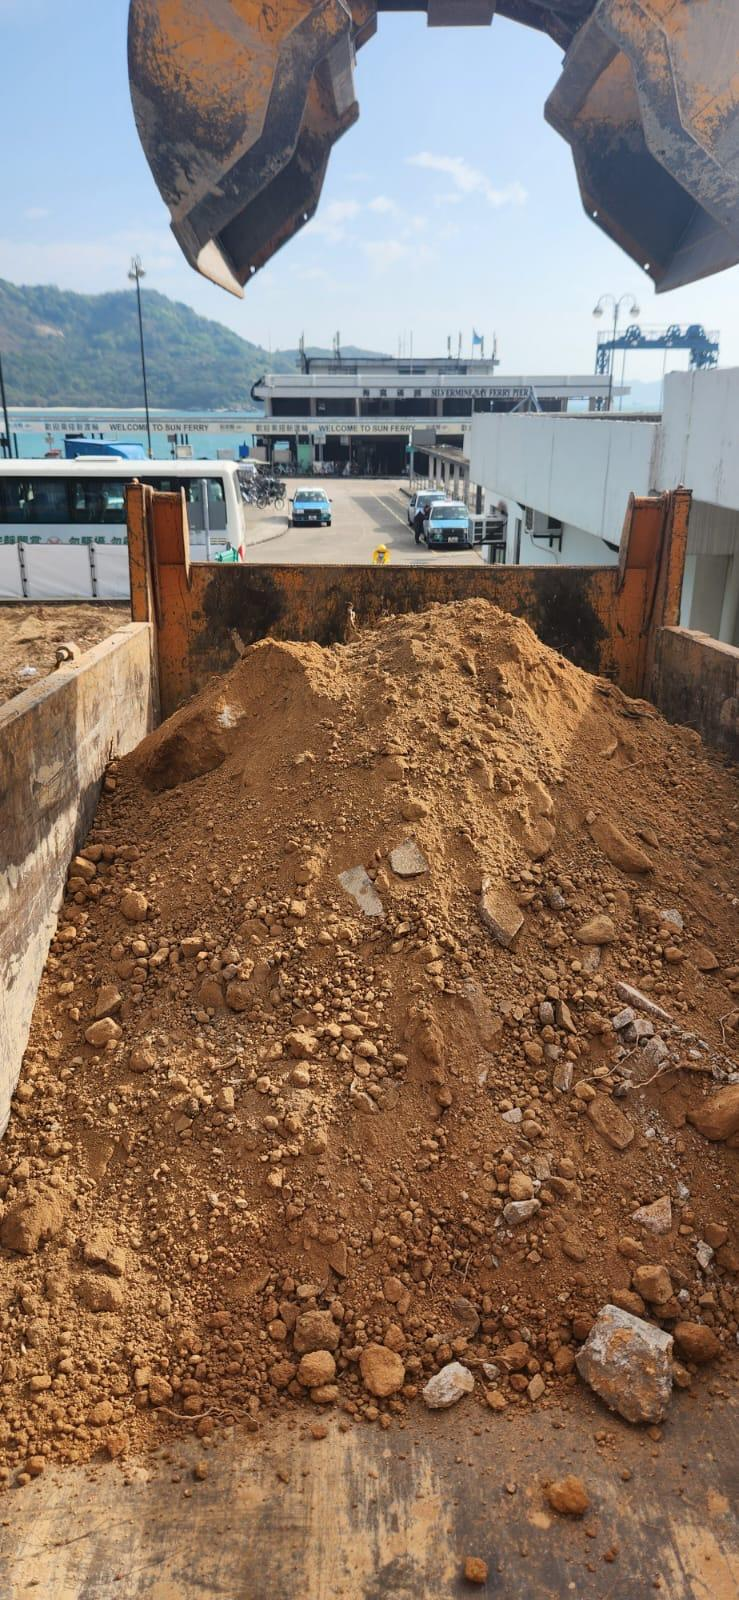dry: (2, 605, 733, 1455)
